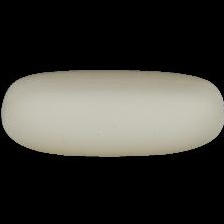43353-107: (0, 0, 224, 224)
